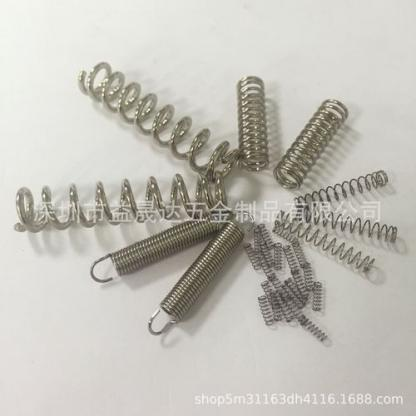FOD: (76, 58, 238, 181), (146, 208, 254, 338), (85, 208, 232, 290), (11, 180, 230, 235), (273, 96, 349, 189), (272, 212, 379, 277), (294, 204, 399, 247), (293, 169, 391, 209), (237, 74, 271, 172), (300, 314, 329, 344), (284, 277, 308, 306), (274, 289, 294, 323), (257, 294, 275, 327), (283, 241, 299, 276), (243, 240, 261, 271), (291, 240, 310, 269), (257, 221, 273, 250), (311, 279, 324, 313), (274, 242, 283, 272)
